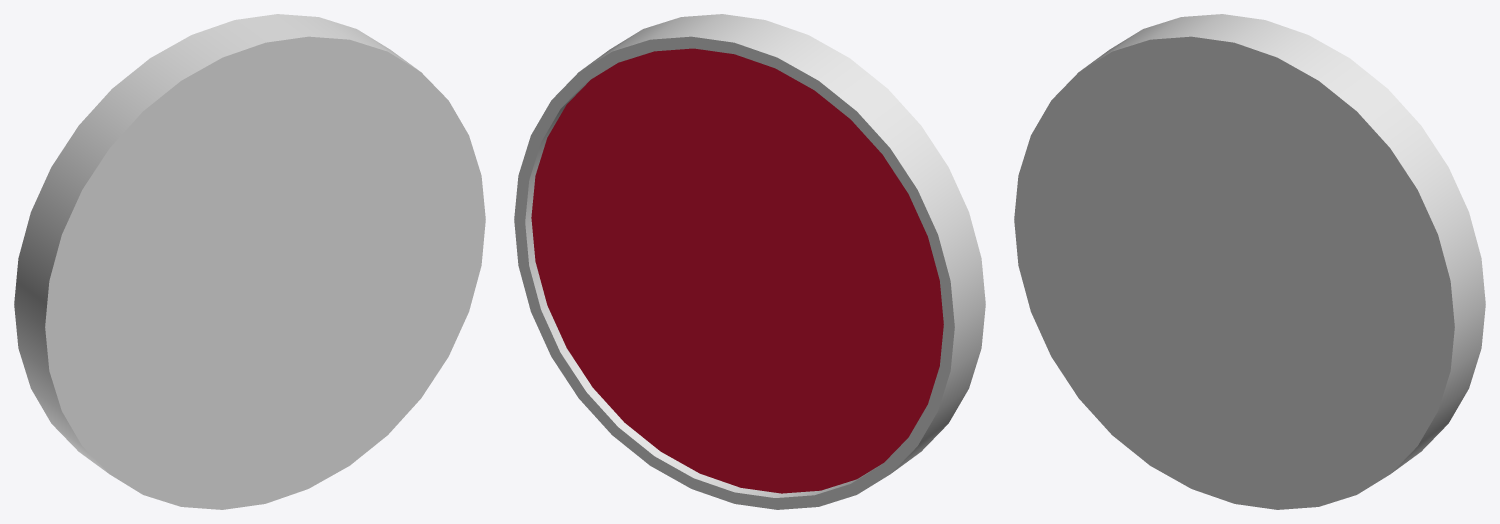
The model's file is tas.fbx.
3 views of the same model, side by side, from view 1: azimuth 30°, elevation 25°; view 2: azimuth 150°, elevation 25°; view 3: azimuth 330°, elevation 25° (orthographic).
Parts seen in each view (by area): view 1: Cylinder; view 2: Cylinder.001, Cylinder; view 3: Cylinder.
Part boxes in pixels (x1=…): Cylinder: x1=14, y1=14, x2=485, y2=509; Cylinder.001: x1=531, y1=48, x2=943, y2=493; Cylinder: x1=514, y1=14, x2=985, y2=509; Cylinder: x1=1014, y1=14, x2=1485, y2=509.
Bounding box in the file's own units: 200 × 200 × 24.33.
